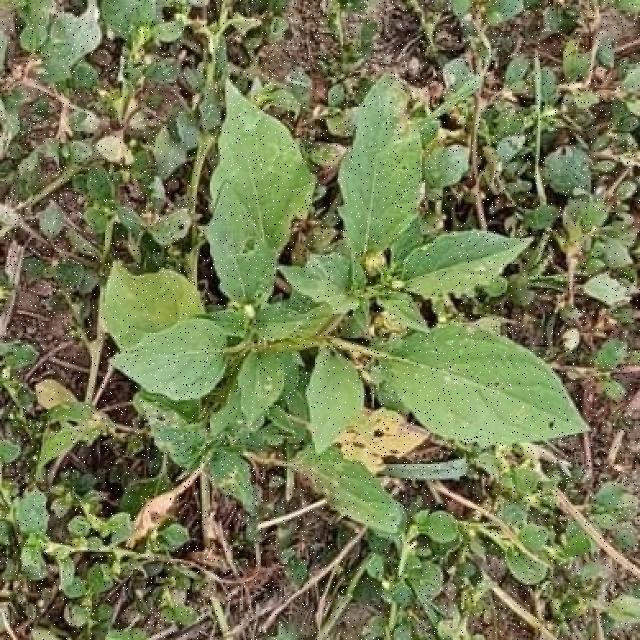weed: (100, 78, 587, 537)
